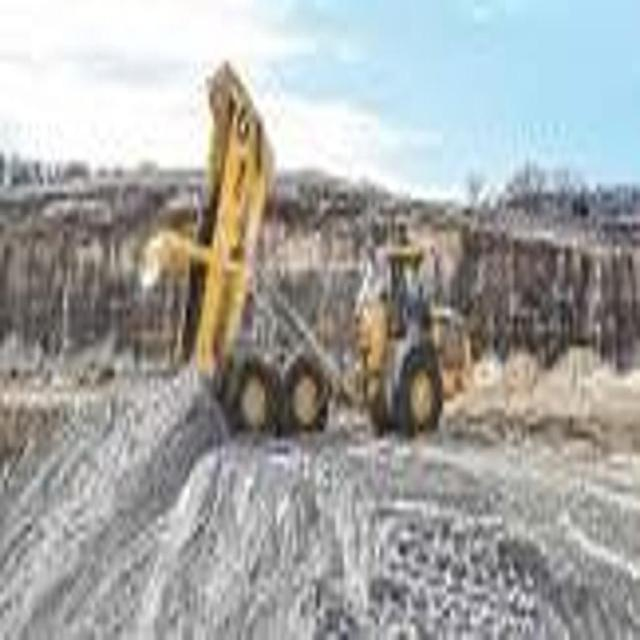dump_truck: (173, 35, 473, 453)
